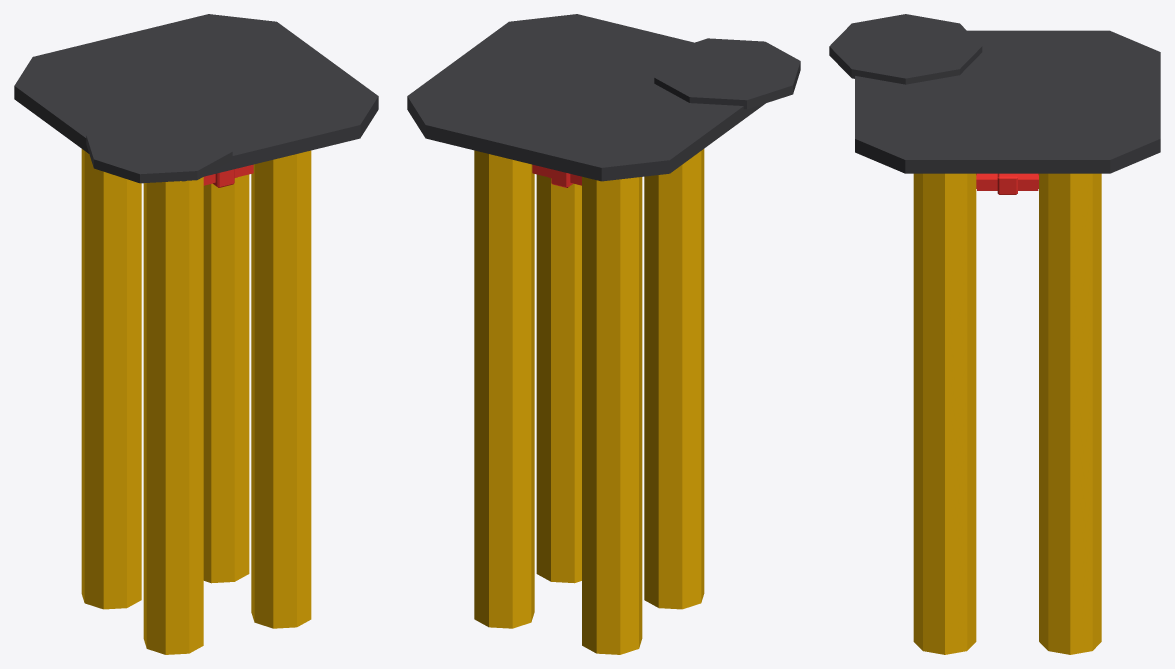
File: tower2.gltf
The picture shows the model from 3 angles, left to right: view 1: azimuth 30°, elevation 25°; view 2: azimuth 150°, elevation 25°; view 3: azimuth 270°, elevation 25°; orthographic projection.
Parts seen in each view (by area): view 1: Cube, Cylinder.004, Cylinder.001, Cylinder.003, Cylinder.002, Cube.011; view 2: Cube, Cylinder.003, Cylinder.002, Cylinder.004, Cylinder.001, Cube.011; view 3: Cube, Cylinder.001, Cylinder.002, Cube.011.
Boxes of the visible parts, x1,y1,x2,y2 form: Cube: (14,14,378,183); Cylinder.004: (143,177,203,654); Cylinder.001: (251,150,311,628); Cylinder.003: (81,149,141,609); Cylinder.002: (203,174,249,583); Cube.011: (203,164,253,187); Cube: (407,14,800,181); Cylinder.003: (582,176,642,654); Cylinder.002: (474,150,534,628); Cylinder.004: (644,149,704,609); Cylinder.001: (536,174,581,583); Cube.011: (532,164,581,187); Cube: (829,14,1160,173); Cylinder.001: (913,173,976,654); Cylinder.002: (1039,173,1101,654); Cube.011: (976,173,1038,194).
Size of the model in its own units: 6.5 by 11.39 by 6.5.
Materials: 6 (6 with a texture image).
